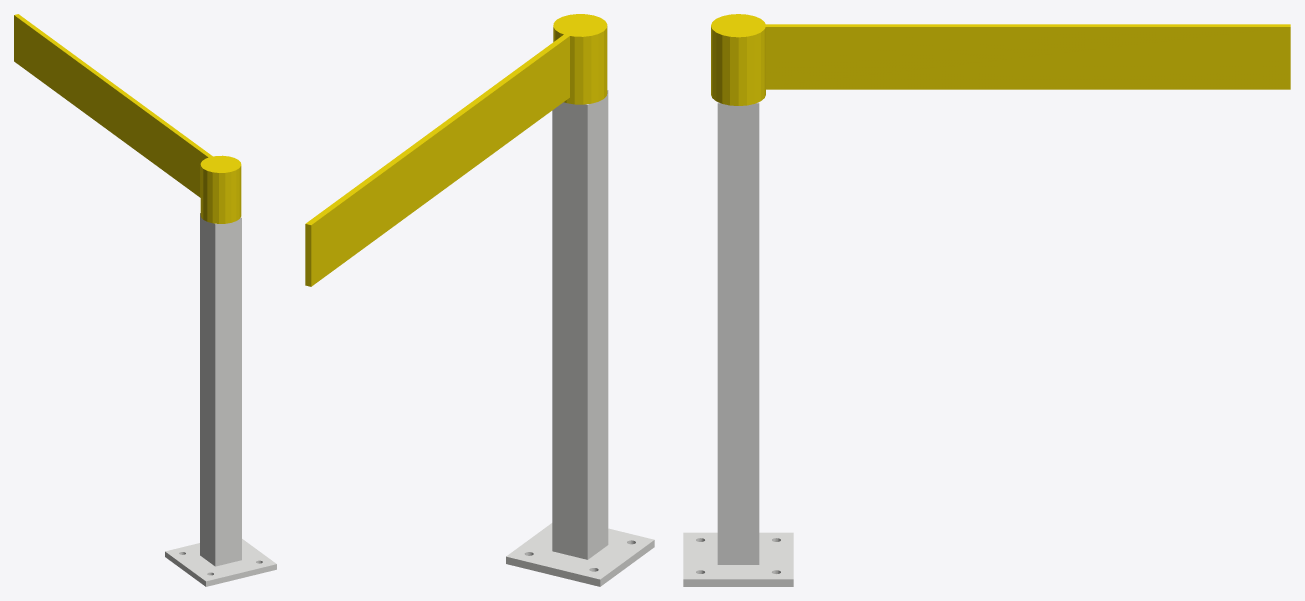
Rendered from diverter.glb.
3 renders of one model, left to right at view 1: azimuth 30°, elevation 25°; view 2: azimuth 150°, elevation 25°; view 3: azimuth 270°, elevation 25°, orthographic. The views are drawn at different scales.
Parts seen in each view (by area): view 1: body, arm; view 2: body, arm; view 3: arm, body.
Part boxes in pixels (x1,y1,x2,y2): body: [165, 213, 276, 586]; arm: [14, 14, 241, 223]; body: [506, 90, 654, 586]; arm: [305, 14, 607, 286]; arm: [711, 14, 1290, 105]; body: [683, 102, 793, 586].
Size of what is drawn, in the model's own units: 0.16 by 0.86 by 0.88.
